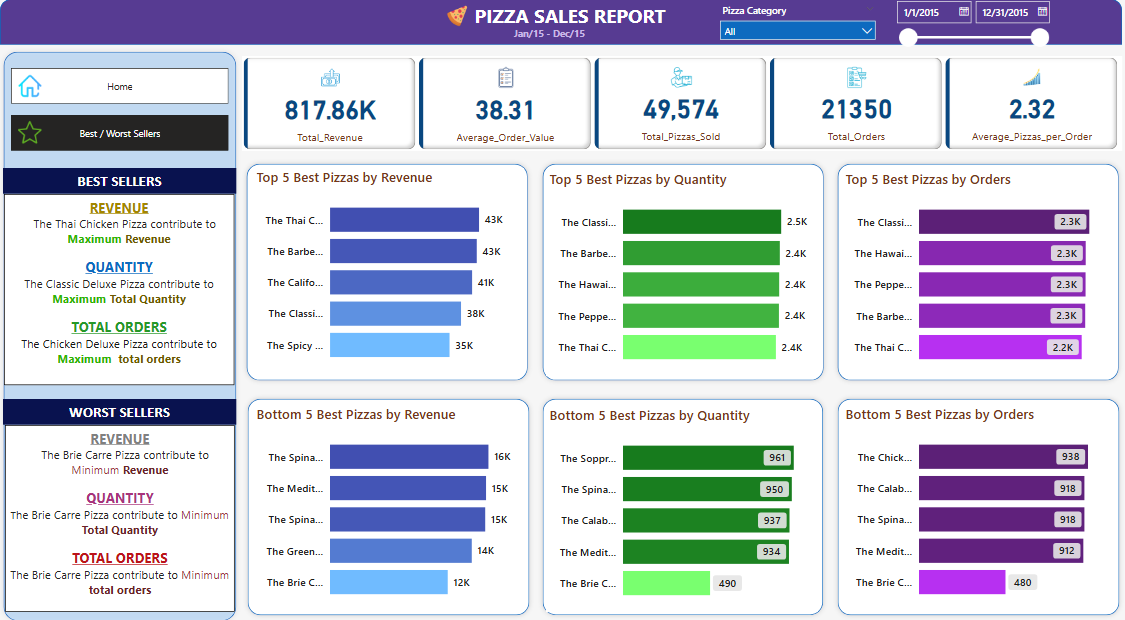

This screenshot's page, from the dashboard's own definition file:
{"tool":"powerbi","page":{"name":"Best / Worst Sellers","canvas":[1600,900],"ordinal":1},"visuals":[{"type":"cardVisual","fields":{"Data":["pizza_sales.Total_Revenue","pizza_sales.Average_Order_Value","pizza_sales.Total_Pizzas_Sold","pizza_sales.Total_Orders","pizza_sales.Average_Pizzas_per_Order"]},"box":[349.1,89.7,1233.6,133.2],"z":0},{"type":"shape","box":[9.8,9.8,1572.9,64.5],"z":1000},{"type":"textbox","box":[669.6,9.7,288.1,46.7],"z":2000},{"type":"textbox","box":[724.8,43.5,151.4,33.6],"z":3000},{"type":"image","box":[618.1,14.5,64.4,38.6],"z":4000},{"type":"shape","box":[347.7,233.1,410,320],"z":5000},{"type":"shape","box":[7,75.7,342.1,814.5],"z":6000},{"type":"textbox","box":[14,246.2,326.6,36.4],"z":7000},{"type":"textbox","box":[14,570.2,326.6,36.4],"z":8000},{"type":"textbox","box":[16.1,283,322.9,268.3],"z":9000},{"type":"textbox","box":[16.8,607,322.4,262.1],"z":10000},{"type":"slicer","fields":{"Values":["pizza_sales.pizza_category"]},"box":[1009.3,11.2,238.3,63.1],"z":11000},{"type":"slicer","fields":{"Values":["pizza_sales.order_date"]},"box":[1254.7,2.8,234.1,77.1],"z":12000},{"type":"shape","box":[761.9,233.1,410,320],"z":13000},{"type":"shape","box":[1176.2,233.1,410,320],"z":14000},{"type":"shape","box":[349.1,562.1,410.7,319.6],"z":15000},{"type":"shape","box":[762.6,562.1,409.3,319.6],"z":16000},{"type":"shape","box":[1176.2,562.1,410.7,319.6],"z":17000},{"type":"barChart","title":"Top 5 Best Pizzas by Revenue","fields":{"Category":["pizza_sales.pizza_name"],"Y":["pizza_sales.Total_Revenue"]},"box":[364.5,246.7,379.9,288.8],"z":18000},{"type":"barChart","title":"Bottom 5 Best Pizzas by Revenue","fields":{"Category":["pizza_sales.pizza_name"],"Y":["pizza_sales.Total_Revenue"]},"box":[364.7,578.3,380.7,289.2],"z":19000},{"type":"barChart","title":"Top 5 Best Pizzas by Quantity","fields":{"Category":["pizza_sales.pizza_name"],"Y":["pizza_sales.Total_Pizzas_Sold"]},"box":[775.9,249,380.7,289.2],"z":20000},{"type":"barChart","title":"Bottom 5 Best Pizzas by Quantity","fields":{"Category":["pizza_sales.pizza_name"],"Y":["pizza_sales.Total_Pizzas_Sold"]},"box":[775.9,579.9,380.7,289.2],"z":21000},{"type":"barChart","title":"Top 5 Best Pizzas by Orders","fields":{"Category":["pizza_sales.pizza_name"],"Y":["pizza_sales.Total_Orders"]},"box":[1190.4,249,380.7,289.2],"z":22000},{"type":"barChart","title":"Bottom 5 Best Pizzas by Orders","fields":{"Category":["pizza_sales.pizza_name"],"Y":["pizza_sales.Total_Orders"]},"box":[1190.4,578.3,380.7,289.2],"z":23000},{"type":"pageNavigator","box":[25.2,106.5,305.6,50.5],"z":24000},{"type":"pageNavigator","box":[25.2,172.4,305.6,50.5],"z":25000},{"type":"image","box":[30.8,110.7,42.1,42.1],"z":26000},{"type":"image","box":[28,175.2,47.7,43.5],"z":27000}]}

Visuals, with their boxes in screenshot pixels (x1, y1, x2, y2), scaled from the page's 1600x900 canvas onto the 1125x620 screenshot:
cardVisual - pizza_sales.Total_Revenue x pizza_sales.Average_Order_Value: region(245, 62, 1113, 154)
shape: region(7, 7, 1113, 51)
textbox: region(471, 7, 673, 39)
textbox: region(510, 30, 616, 53)
image: region(435, 10, 480, 37)
shape: region(244, 161, 533, 381)
shape: region(5, 52, 245, 613)
textbox: region(10, 170, 239, 195)
textbox: region(10, 393, 239, 418)
textbox: region(11, 195, 238, 380)
textbox: region(12, 418, 238, 599)
slicer - pizza_sales.pizza_category: region(710, 8, 877, 51)
slicer - pizza_sales.order_date: region(882, 2, 1047, 55)
shape: region(536, 161, 824, 381)
shape: region(827, 161, 1115, 381)
shape: region(245, 387, 534, 607)
shape: region(536, 387, 824, 607)
shape: region(827, 387, 1116, 607)
"Top 5 Best Pizzas by Revenue" barChart: region(256, 170, 523, 369)
"Bottom 5 Best Pizzas by Revenue" barChart: region(256, 398, 524, 598)
"Top 5 Best Pizzas by Quantity" barChart: region(546, 172, 813, 371)
"Bottom 5 Best Pizzas by Quantity" barChart: region(546, 399, 813, 599)
"Top 5 Best Pizzas by Orders" barChart: region(837, 172, 1105, 371)
"Bottom 5 Best Pizzas by Orders" barChart: region(837, 398, 1105, 598)
pageNavigator: region(18, 73, 233, 108)
pageNavigator: region(18, 119, 233, 154)
image: region(22, 76, 51, 105)
image: region(20, 121, 53, 151)
